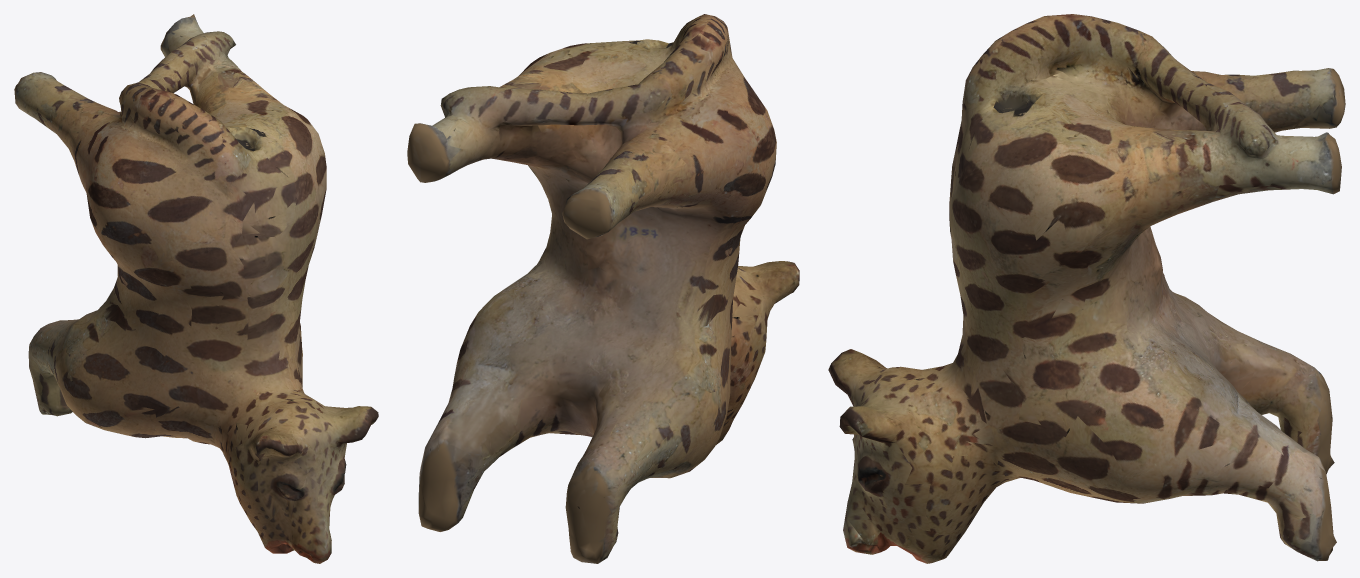
Rendered from tigreZ2.glb.
The picture shows the model from 3 angles, left to right: view 1: azimuth 30°, elevation 25°; view 2: azimuth 150°, elevation 25°; view 3: azimuth 270°, elevation 25°; orthographic projection. The views are drawn at different scales.
Visible parts, largest first — view 1: SIMPLIFICADA_15000_FINAL; view 2: SIMPLIFICADA_15000_FINAL; view 3: SIMPLIFICADA_15000_FINAL.
Boxes of the visible parts, x1,y1,x2,y2 form: SIMPLIFICADA_15000_FINAL: (14,14,378,563); SIMPLIFICADA_15000_FINAL: (407,14,799,563); SIMPLIFICADA_15000_FINAL: (828,14,1345,563).
Bounding box in the file's own units: 0.5705 × 1.04 × 0.9519.
1 material, 1 textured.
